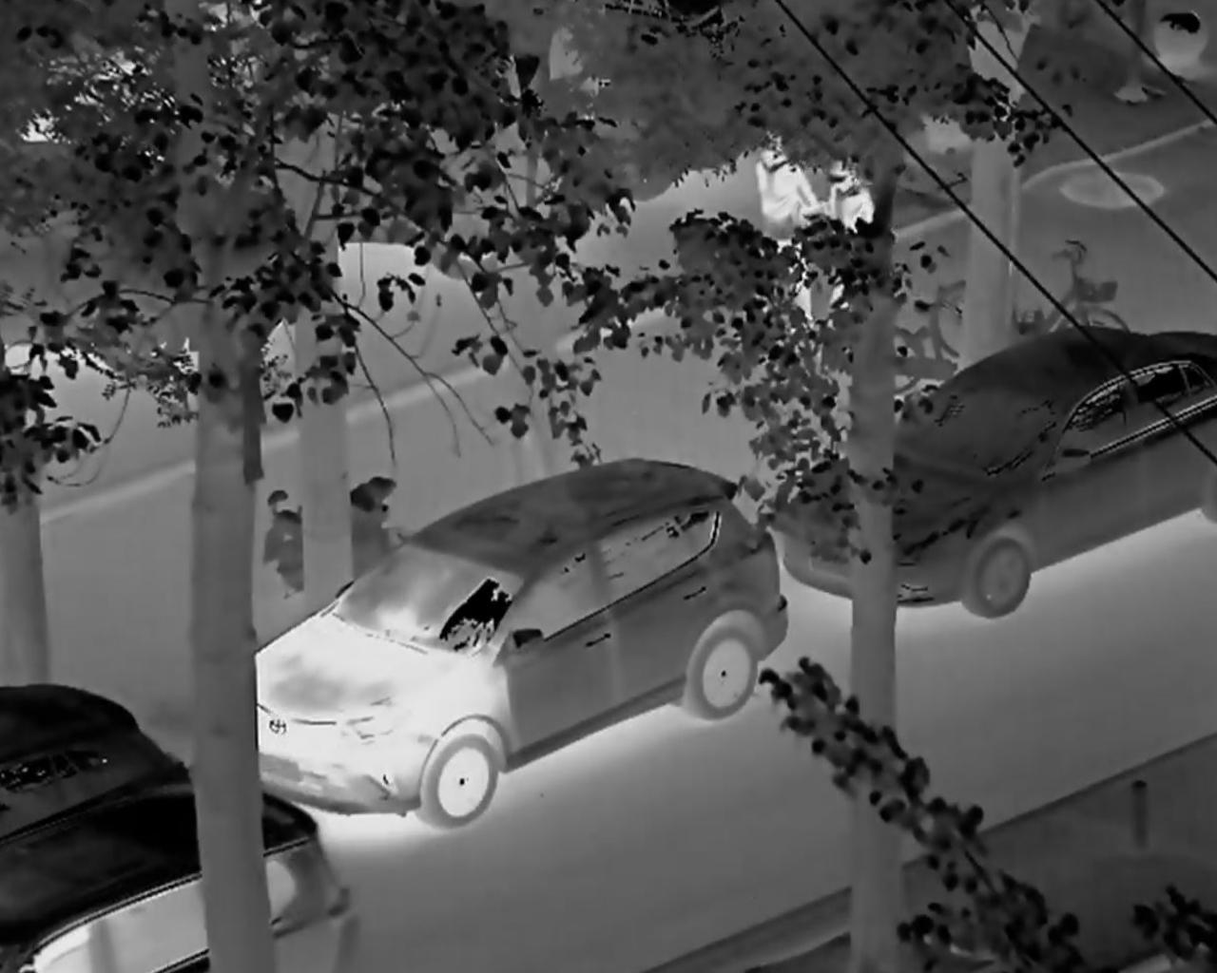person: (729, 105, 817, 327), (807, 150, 876, 279)
